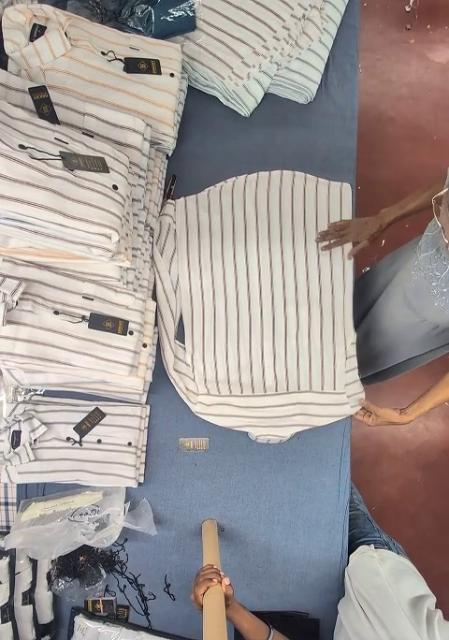new-garment: (154, 170, 362, 441)
